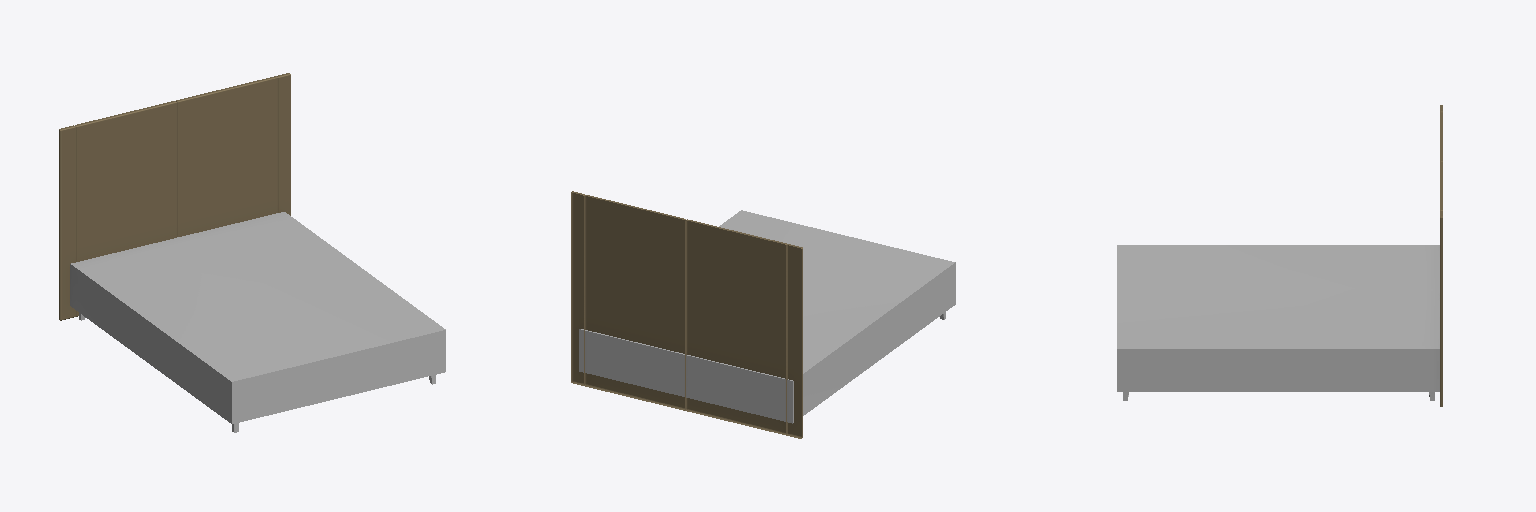
3 renders of one model, left to right at view 1: azimuth 30°, elevation 25°; view 2: azimuth 150°, elevation 25°; view 3: azimuth 270°, elevation 25°, orthographic.
Parts seen in each view (by area): view 1: solid_002, solid_001; view 2: solid_001, solid_002; view 3: solid_002, solid_001.
Boxes of the visible parts, <box> form: solid_002: <box>70,212,445,432</box>; solid_001: <box>59,73,290,320</box>; solid_001: <box>571,191,802,438</box>; solid_002: <box>579,210,955,423</box>; solid_002: <box>1117,245,1439,400</box>; solid_001: <box>1440,105,1442,406</box>.
Size of the model in its own units: 1.43 by 1.13 by 1.75.
Materials: 1 (1 with a texture image).